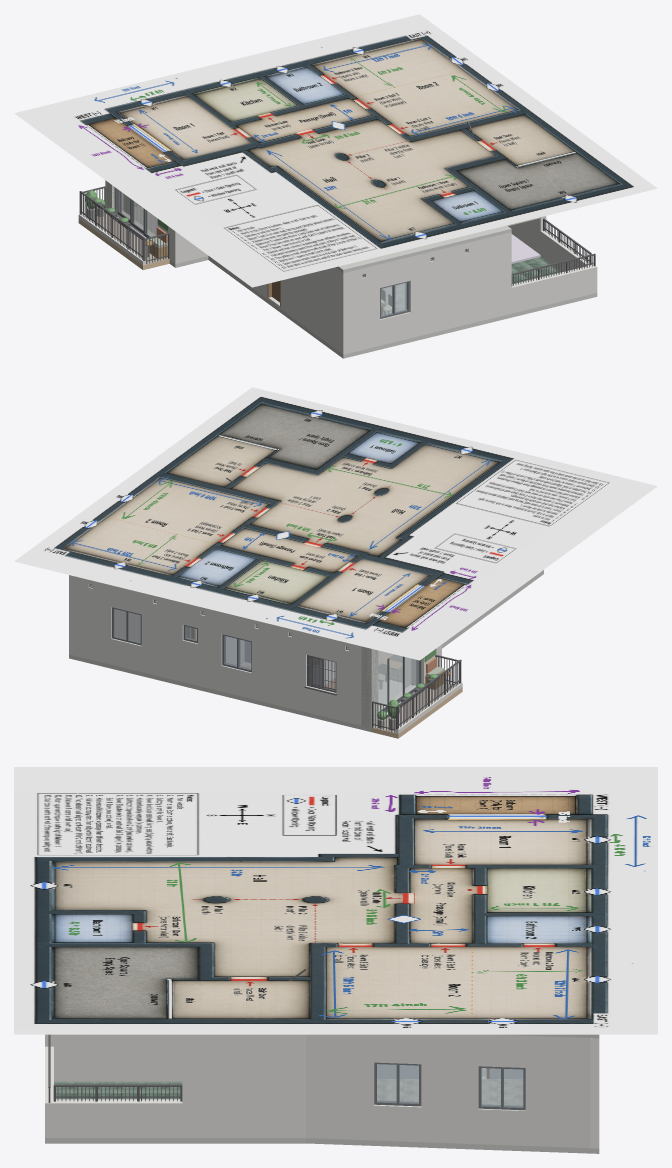
Rendered from MyFlat_V1_3_Hall_Panelled.glb.
The picture shows the model from 3 angles, top to bottom: view 1: azimuth 30°, elevation 25°; view 2: azimuth 150°, elevation 25°; view 3: azimuth 270°, elevation 25°; orthographic projection. The views are drawn at different scales.
Visible parts, largest first — view 1: PLAN_REFERENCE_OVERLAY, WALL_EXT_S_HALL, WALL_EXT_W_HALL, PARAPET_OPENSQ_S, SLAB_FLOOR_STRUCTURAL, BALCONY_RAILING_W, SLAB_ROOF, PARAPET_OPENSQ_E, R1_DEF_BALCONY_FLOOR_FINISH, RAILING_OPENSQ_S, WALL_EXT_E_STAIR, HP_OPENSQ_FINISH (+4 smaller); view 2: PLAN_REFERENCE_OVERLAY, WALL_EXT_N_R2, WALL_EXT_N_R1, WALL_EXT_N_KIT, WALL_EXT_N_B2, SLAB_FLOOR_STRUCTURAL, BALCONY_RAILING_W, PILLAR_R1_NW, R1_DEF_BALCONY_CURTAIN_SHEER, WALL_EXT_W_R1_BALCONY, WINDOW_W4_GLASS, R1_DEF_BALCONY_FLOOR_FINISH (+3 smaller); view 3: PLAN_REFERENCE_OVERLAY, WALL_EXT_E_R2_TAPERED, WALL_EXT_E_STAIR, WALL_INT_OPENSQ_W, PARAPET_OPENSQ_E, SLAB_FLOOR_STRUCTURAL, HP_OPENSQ_FINISH, HP_FLOOR_R2_FINISH, WINDOW_W5_GLASS, WINDOW_W6_GLASS, RAILING_OPENSQ_E, WALL_EXT_N_R2 (+4 smaller).
Part boxes in pixels (x1,y1,x2,y2): PLAN_REFERENCE_OVERLAY: [14, 14, 657, 287]; WALL_EXT_S_HALL: [340, 232, 511, 354]; WALL_EXT_W_HALL: [209, 256, 348, 354]; PARAPET_OPENSQ_S: [511, 264, 597, 313]; SLAB_FLOOR_STRUCTURAL: [169, 256, 597, 358]; BALCONY_RAILING_W: [79, 191, 144, 260]; SLAB_ROOF: [335, 225, 511, 273]; PARAPET_OPENSQ_E: [540, 230, 593, 272]; R1_DEF_BALCONY_FLOOR_FINISH: [93, 212, 168, 264]; RAILING_OPENSQ_S: [511, 253, 595, 286]; WALL_EXT_E_STAIR: [508, 216, 546, 254]; HP_OPENSQ_FINISH: [511, 257, 561, 284]; PLAN_REFERENCE_OVERLAY: [14, 387, 657, 660]; WALL_EXT_N_R2: [69, 575, 171, 679]; WALL_EXT_N_R1: [265, 623, 372, 727]; WALL_EXT_N_KIT: [208, 609, 264, 701]; WALL_EXT_N_B2: [172, 600, 208, 688]; SLAB_FLOOR_STRUCTURAL: [69, 570, 543, 731]; BALCONY_RAILING_W: [396, 659, 461, 729]; PILLAR_R1_NW: [361, 646, 378, 727]; R1_DEF_BALCONY_CURTAIN_SHEER: [378, 654, 411, 708]; WALL_EXT_W_R1_BALCONY: [362, 647, 438, 727]; WINDOW_W4_GLASS: [114, 609, 140, 642]; R1_DEF_BALCONY_FLOOR_FINISH: [373, 683, 454, 732]; PLAN_REFERENCE_OVERLAY: [14, 767, 657, 1034]; WALL_EXT_E_R2_TAPERED: [306, 1034, 590, 1148]; WALL_EXT_E_STAIR: [182, 1034, 305, 1137]; WALL_INT_OPENSQ_W: [54, 1034, 182, 1081]; PARAPET_OPENSQ_E: [54, 1099, 182, 1137]; SLAB_FLOOR_STRUCTURAL: [45, 1138, 599, 1153]; HP_OPENSQ_FINISH: [54, 1081, 182, 1099]; HP_FLOOR_R2_FINISH: [377, 1079, 523, 1105]; WINDOW_W5_GLASS: [481, 1068, 523, 1106]; WINDOW_W6_GLASS: [377, 1064, 418, 1103]; RAILING_OPENSQ_E: [53, 1084, 182, 1101]; WALL_EXT_N_R2: [590, 1038, 599, 1148].
Size of what is drawn, in the model's own units: 16.28 by 4.33 by 16.55.
111 materials, 5 textured.
